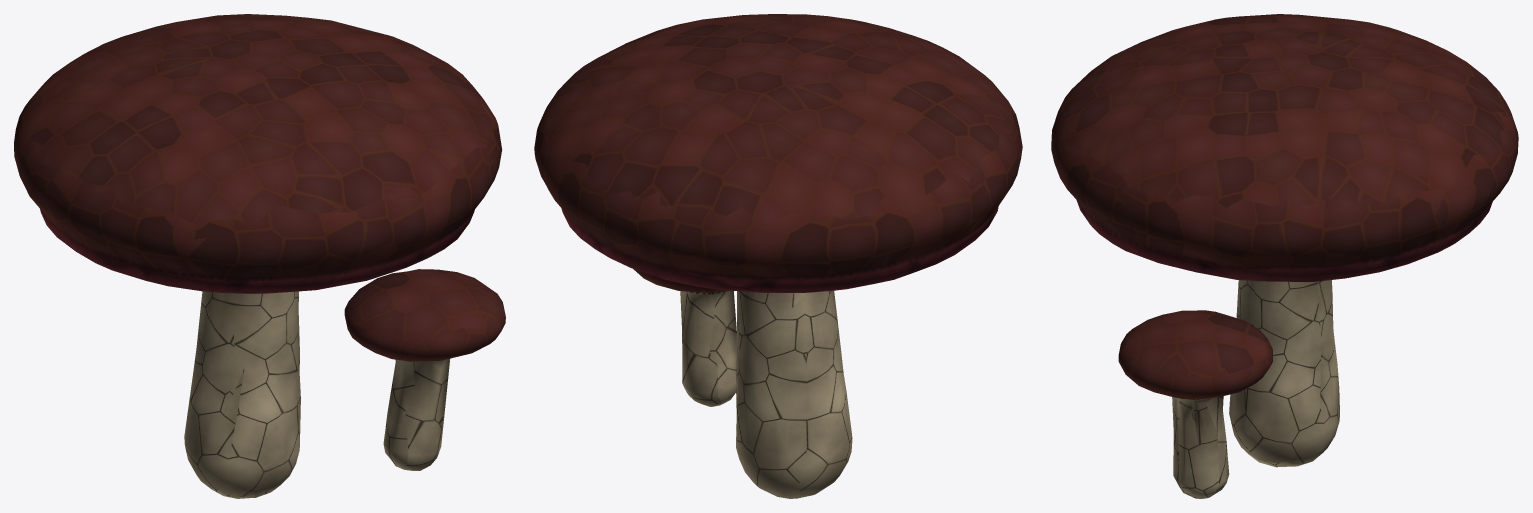
File: mushroom.glb
The picture shows the model from 3 angles, left to right: view 1: azimuth 30°, elevation 25°; view 2: azimuth 150°, elevation 25°; view 3: azimuth 270°, elevation 25°; orthographic projection. The views are drawn at different scales.
Visible parts, largest first — view 1: Base; view 2: Base; view 3: Base.
Boxes of the visible parts, x1=… form: Base: x1=14, y1=14, x2=505, y2=498; Base: x1=534, y1=14, x2=1022, y2=498; Base: x1=1051, y1=14, x2=1518, y2=498.
Size of the model in its own units: 0.8387 by 0.8076 by 0.8395.
3 materials, 3 textured.
